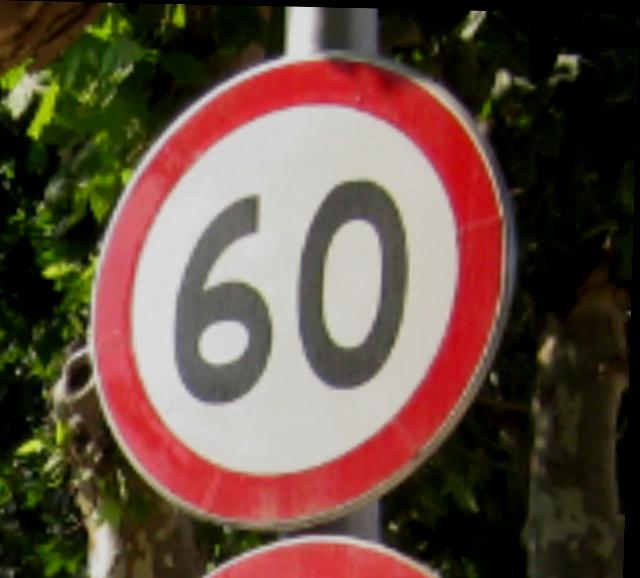limit60: (74, 39, 535, 542)
